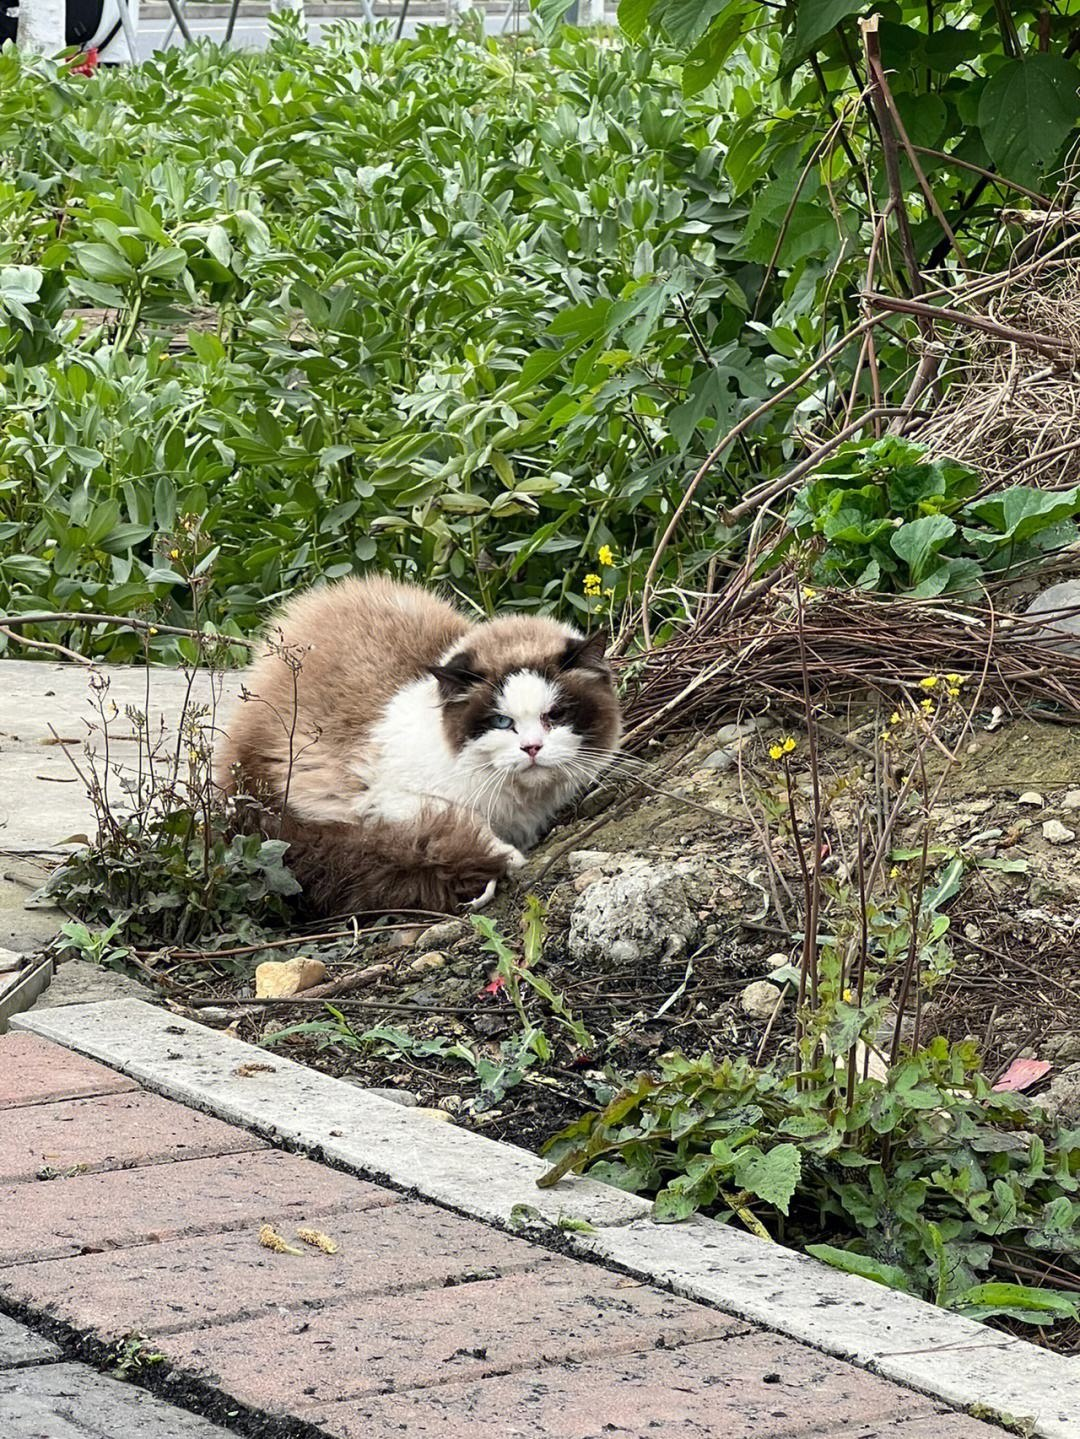cat: (210, 572, 618, 914)
